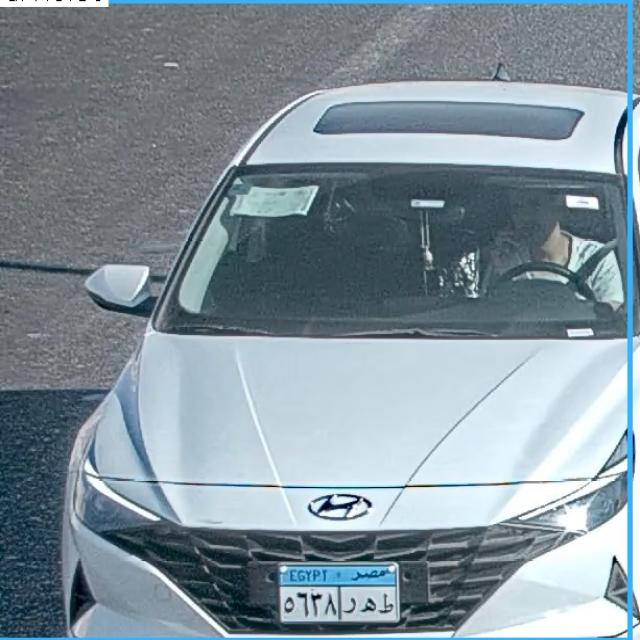windshield: (162, 173, 622, 320)
